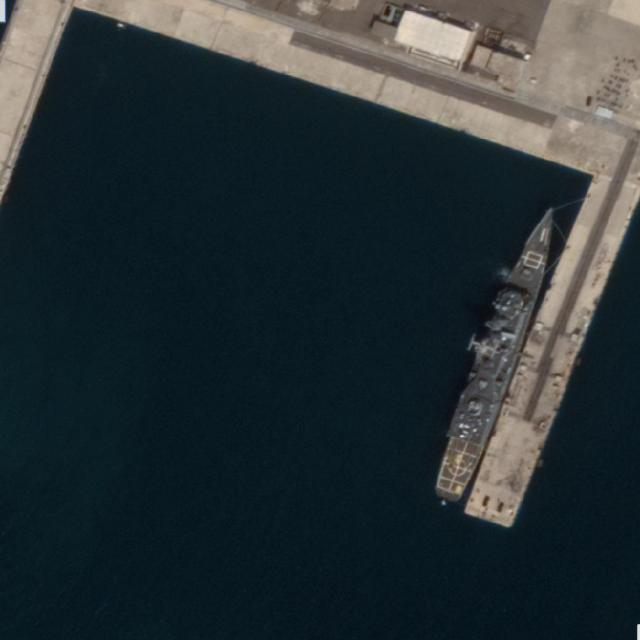Dock: (465, 173, 638, 530)
Frigate: (430, 200, 568, 504)
